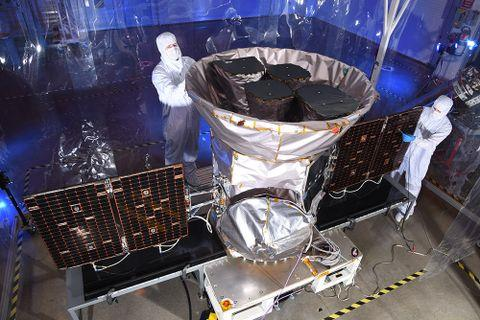antenna: (217, 198, 313, 264)
body: (208, 126, 315, 264)
solar: (22, 163, 189, 273), (323, 105, 426, 195)
thruster: (183, 45, 377, 165)
